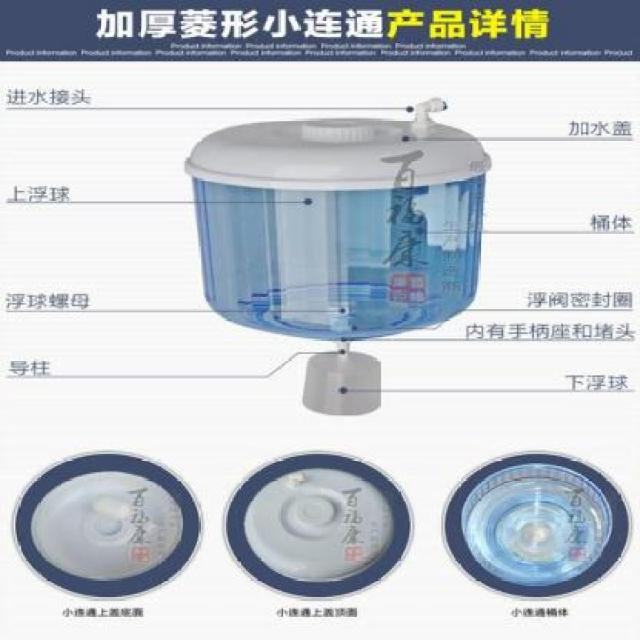coolerbottle: (178, 117, 494, 345)
